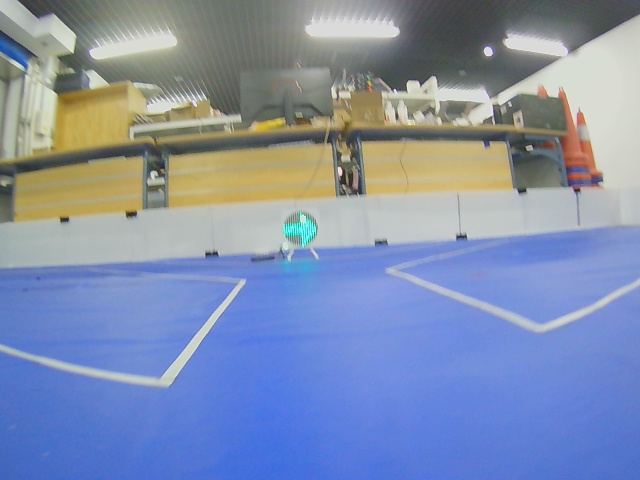right_green: (283, 212, 317, 246)
